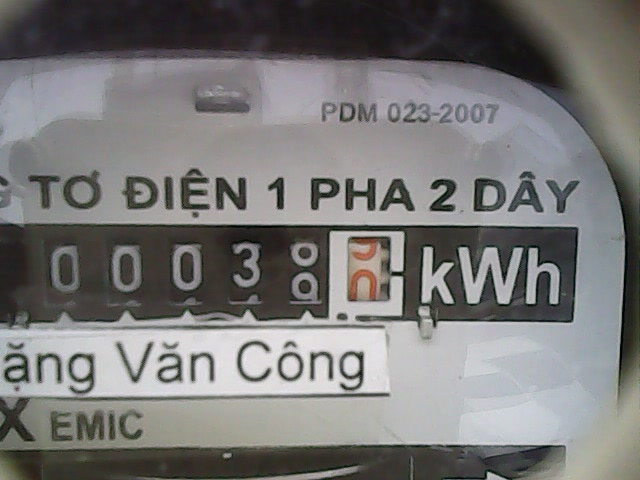phy_plate: (40, 221, 419, 331)
